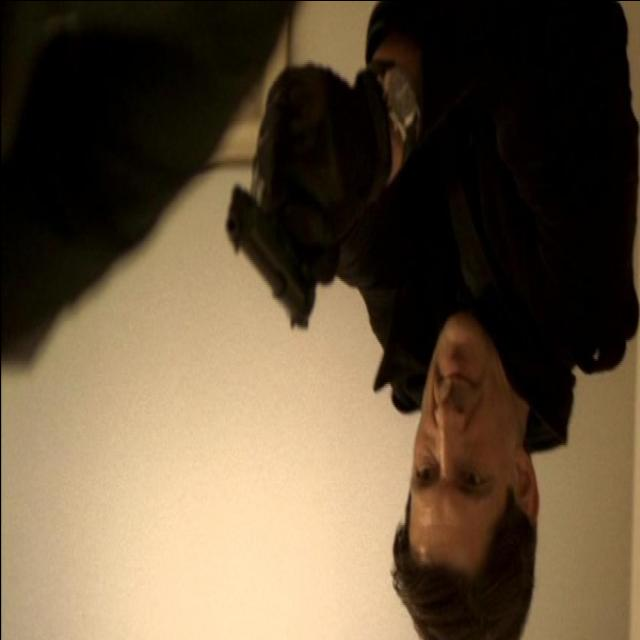weapons: (218, 124, 342, 342)
